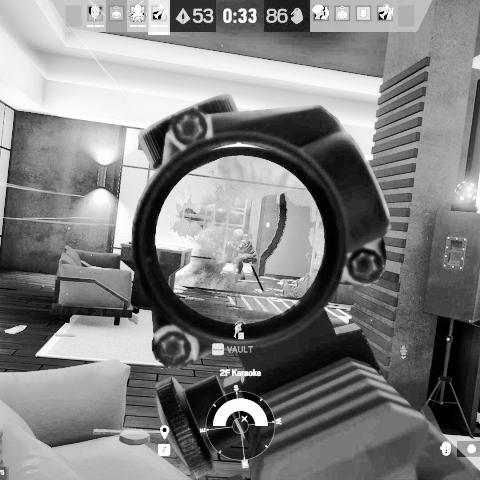Character: (231, 228, 260, 280)
Head: (233, 228, 244, 240)
